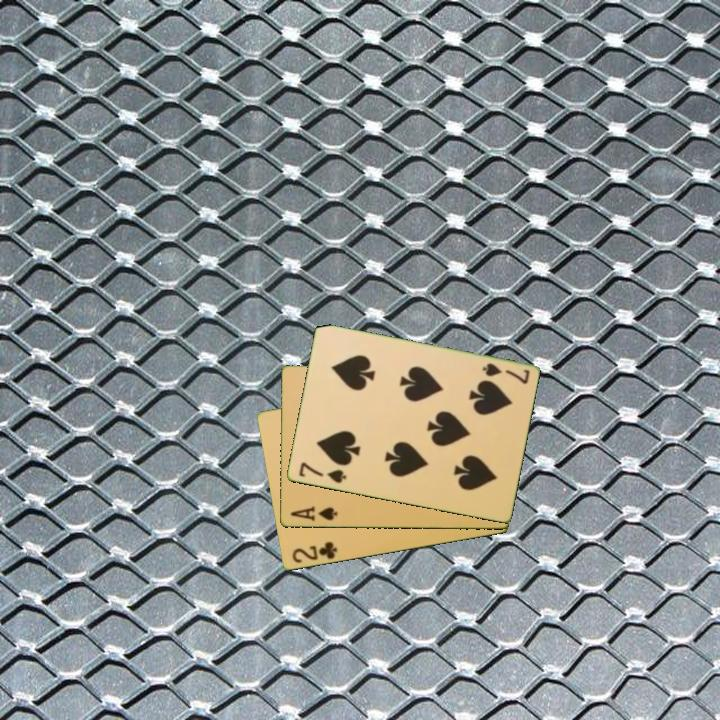2c: (288, 538, 340, 566)
7s: (295, 459, 349, 486), (479, 360, 532, 387)
As: (287, 503, 340, 524)
